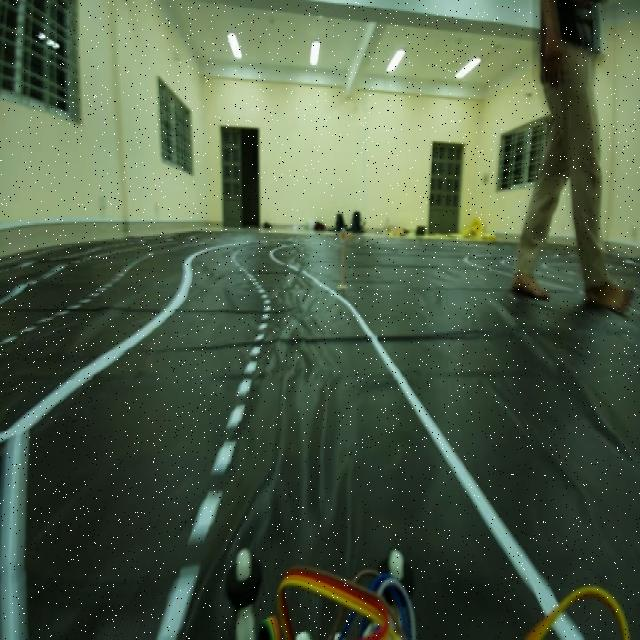priority: (338, 221, 348, 248)
